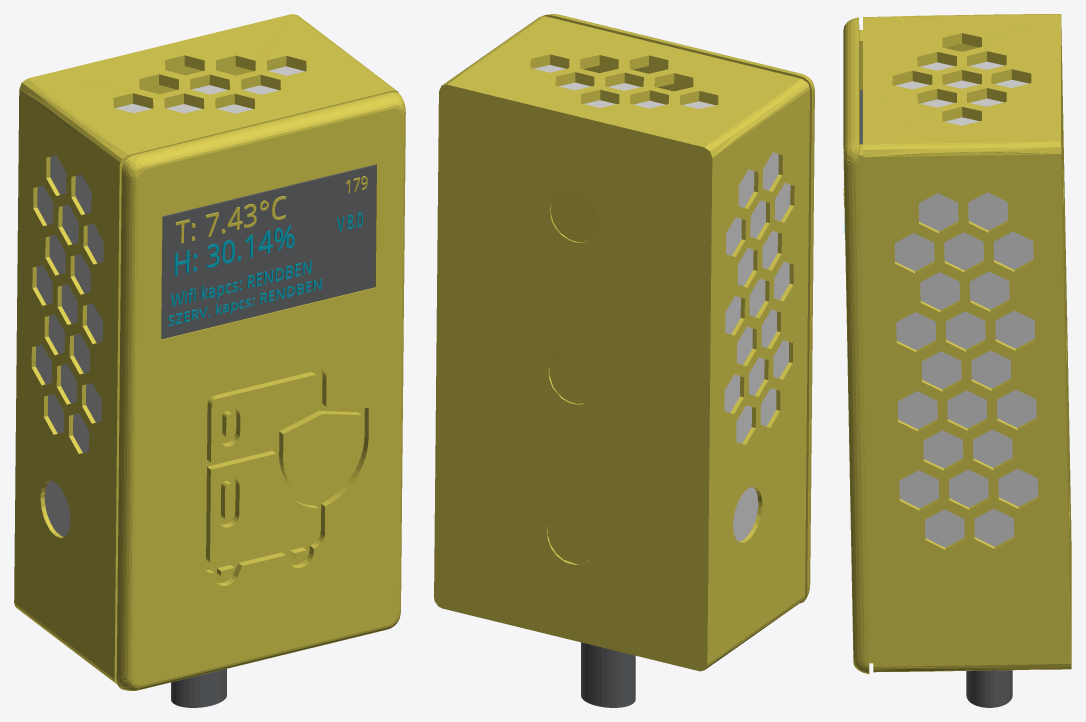
The model's file is sarga_sarga.glb.
The picture shows the model from 3 angles, left to right: view 1: azimuth 30°, elevation 25°; view 2: azimuth 150°, elevation 25°; view 3: azimuth 270°, elevation 25°; orthographic projection. The views are drawn at different scales.
Parts seen in each view (by area): view 1: Mesh_Mesh_head_geo.001_lambert2SG.001; view 2: Mesh_Mesh_head_geo.001_lambert2SG.001; view 3: Mesh_Mesh_head_geo.001_lambert2SG.001.
Boxes of the visible parts, x1,y1,x2,y2 form: Mesh_Mesh_head_geo.001_lambert2SG.001: (14,14,405,707); Mesh_Mesh_head_geo.001_lambert2SG.001: (434,14,814,707); Mesh_Mesh_head_geo.001_lambert2SG.001: (843,14,1071,707).
Size of the model in its own units: 33 by 70.15 by 23.52.
